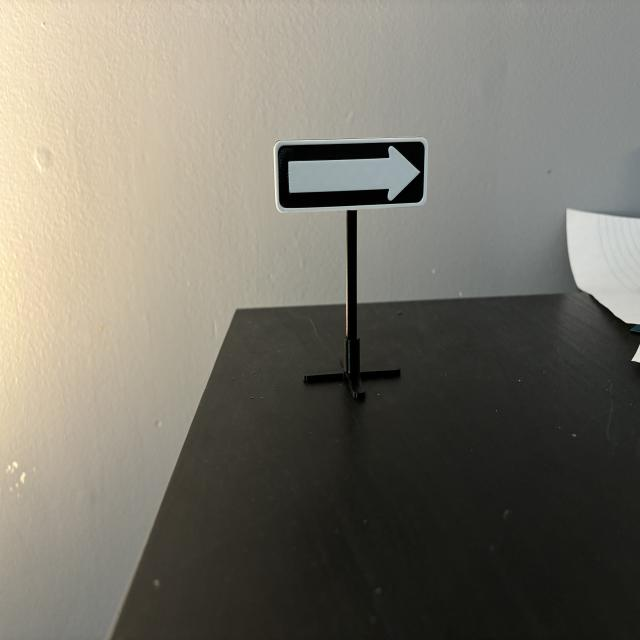sign_oneway_right: (275, 139, 428, 213)
